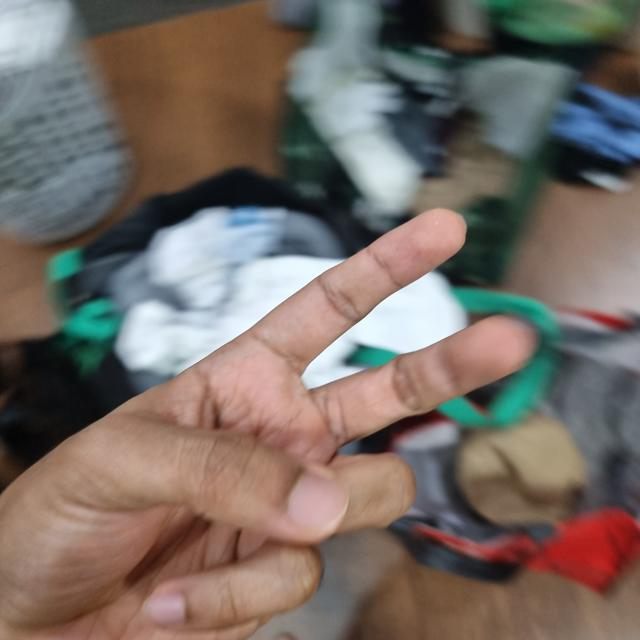Scissors: (0, 206, 538, 639)
